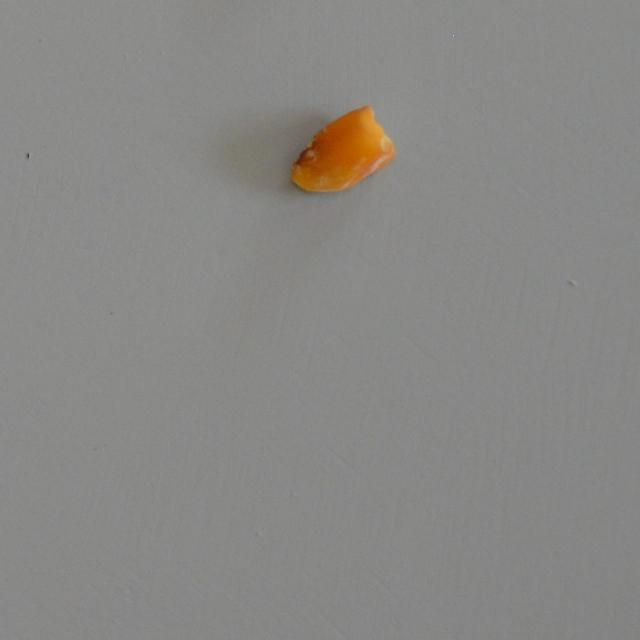dañado: (280, 91, 396, 201)
